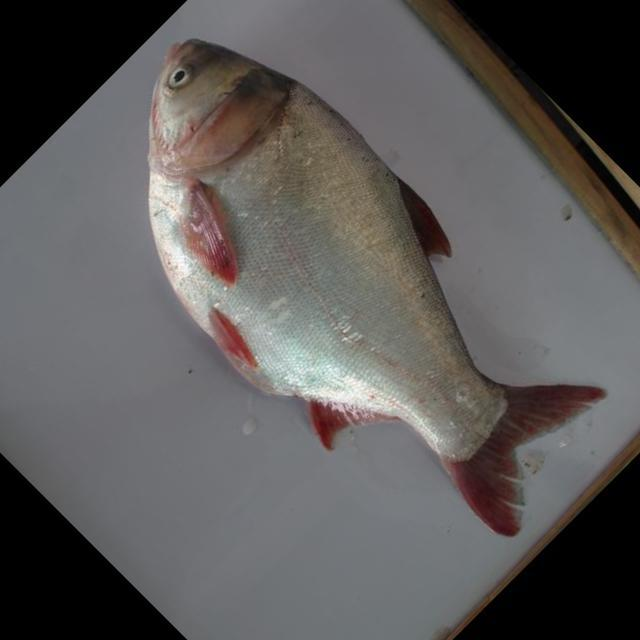SilverCarp: (152, 38, 579, 524)
